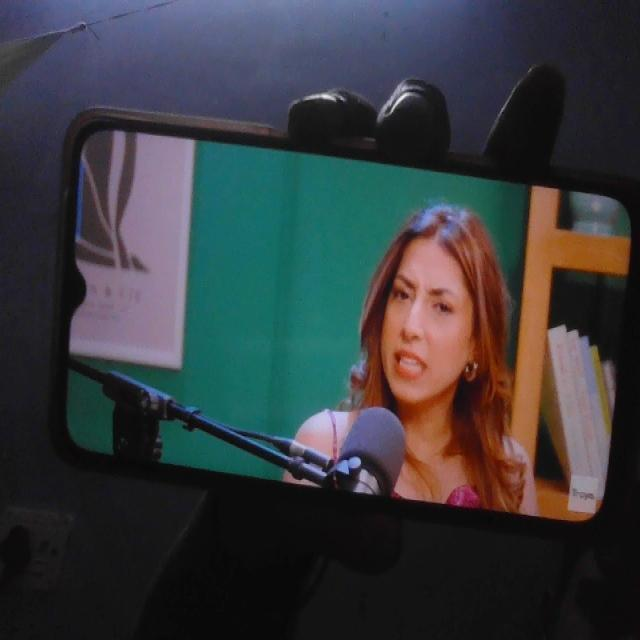fake: (372, 195, 489, 416)
